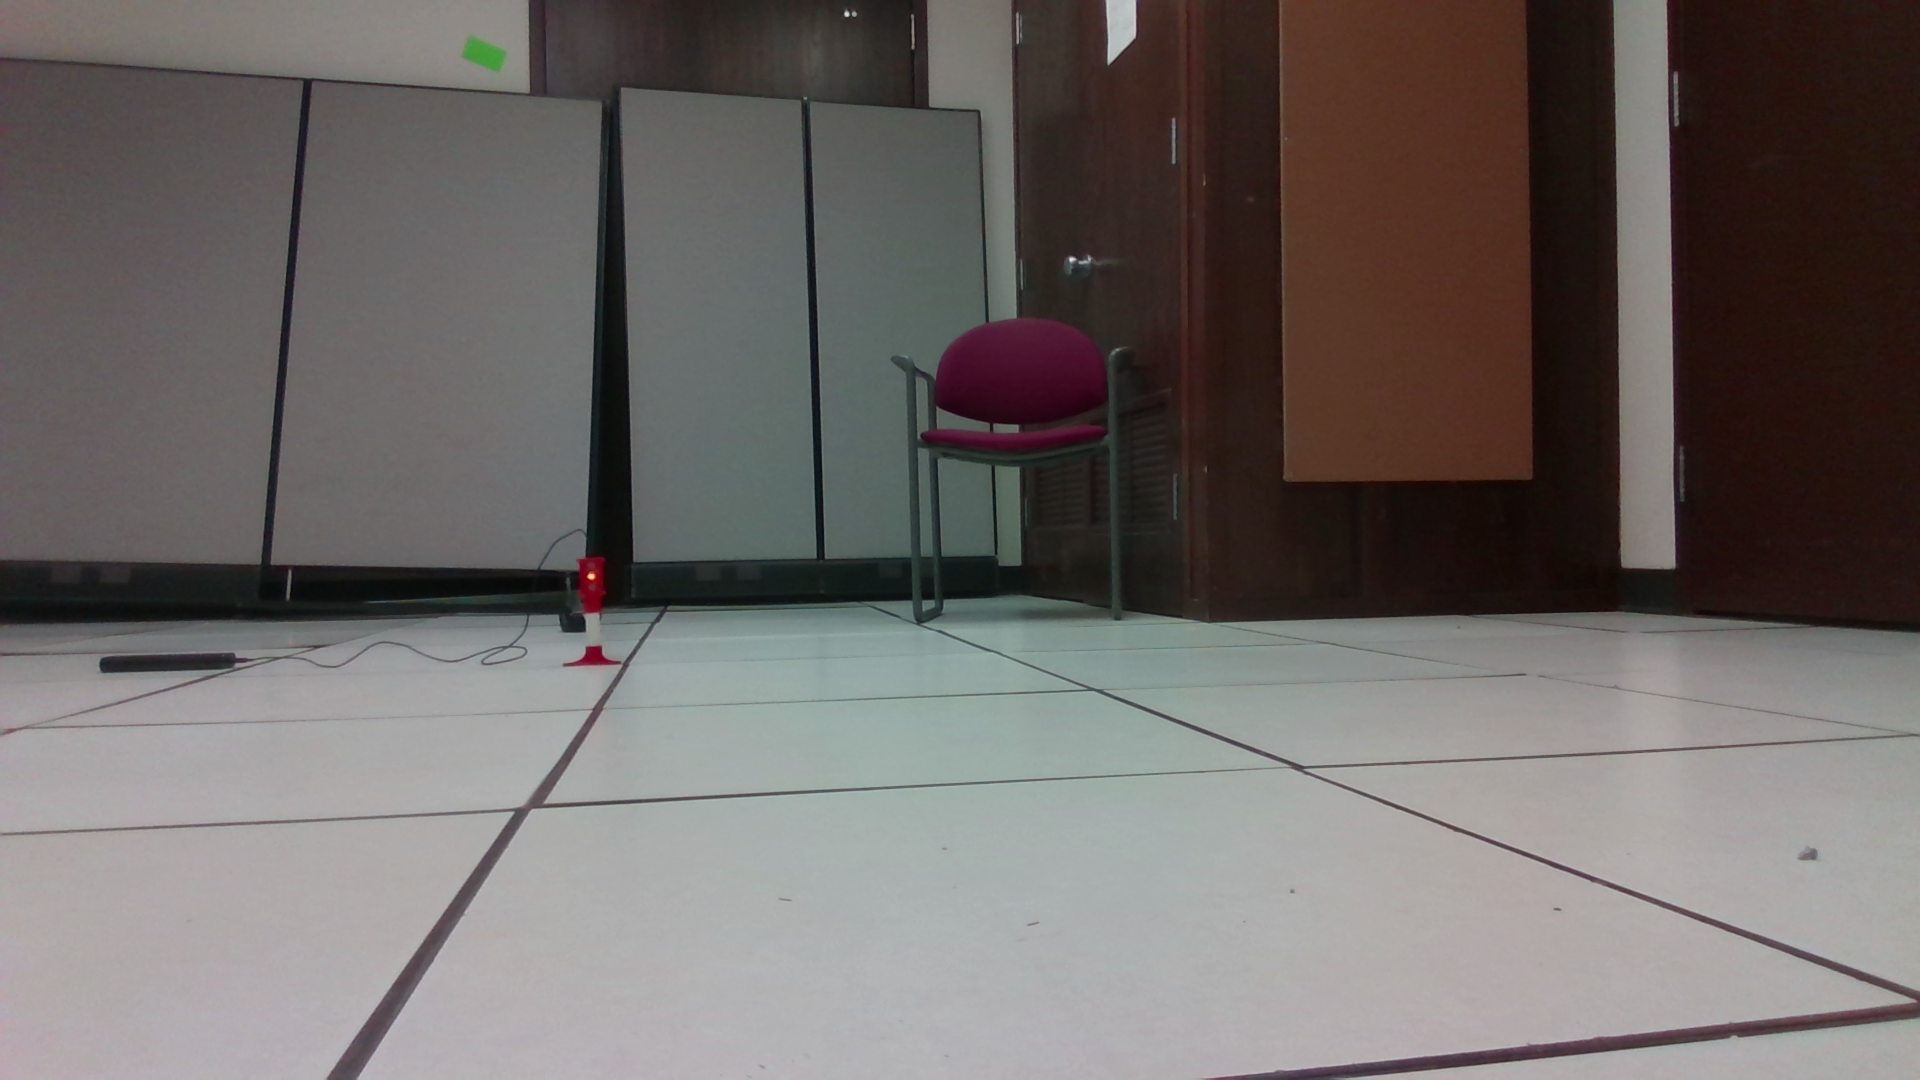stoplight: (575, 558, 609, 612)
